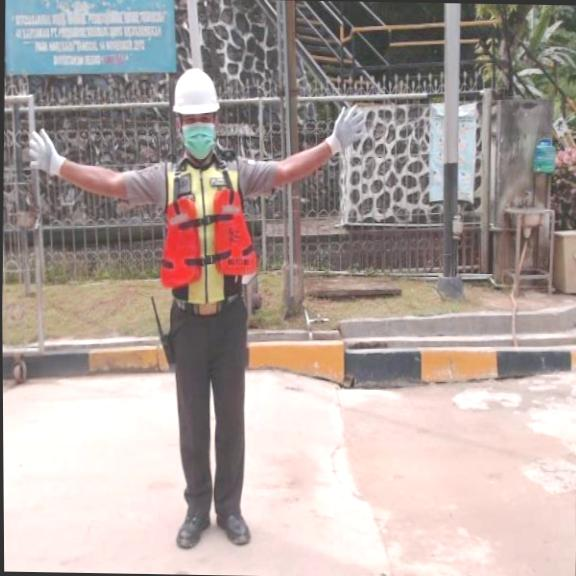safety_vest: (155, 183, 260, 297)
